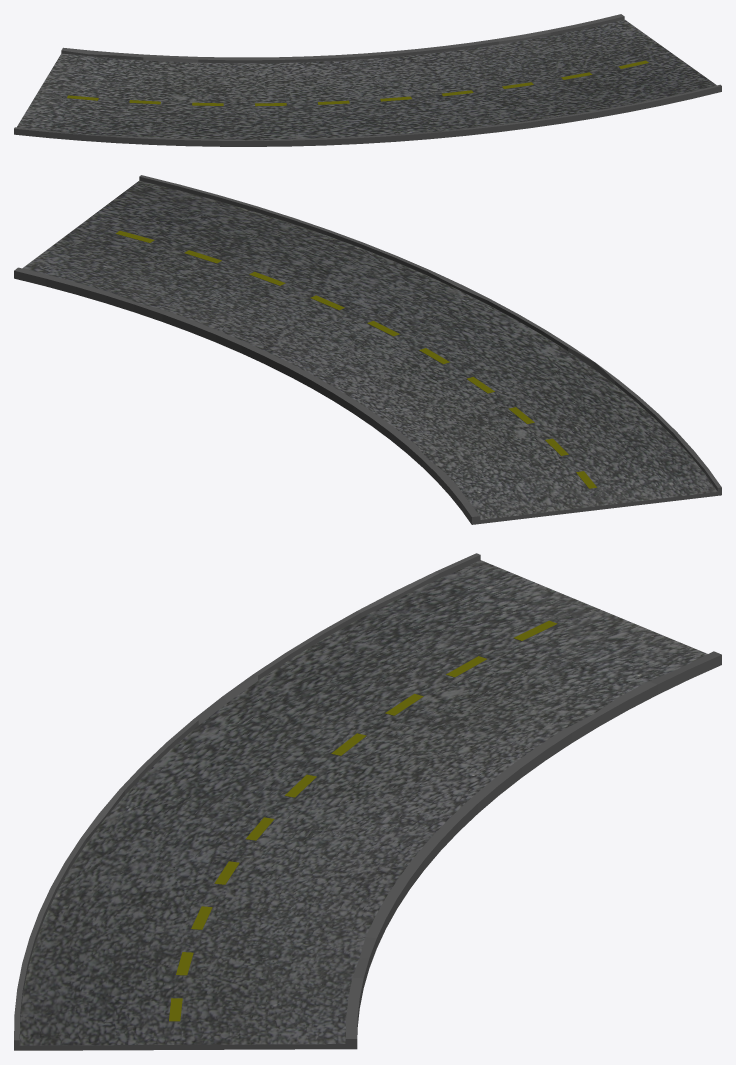
Rendered from KaarreOikealle.fbx.
3 views of the same model, one above another, from view 1: azimuth 30°, elevation 25°; view 2: azimuth 150°, elevation 25°; view 3: azimuth 270°, elevation 25° (orthographic). The views are drawn at different scales.
Parts seen in each view (by area): view 1: tie.002; view 2: tie.002; view 3: tie.002.
Part boxes in pixels (left/top/right/bottom): tie.002: left=14, top=14, right=721, bottom=146; tie.002: left=14, top=175, right=721, bottom=524; tie.002: left=14, top=553, right=721, bottom=1050.
Bounding box in the file's own units: 2015 × 21.03 × 1238.
